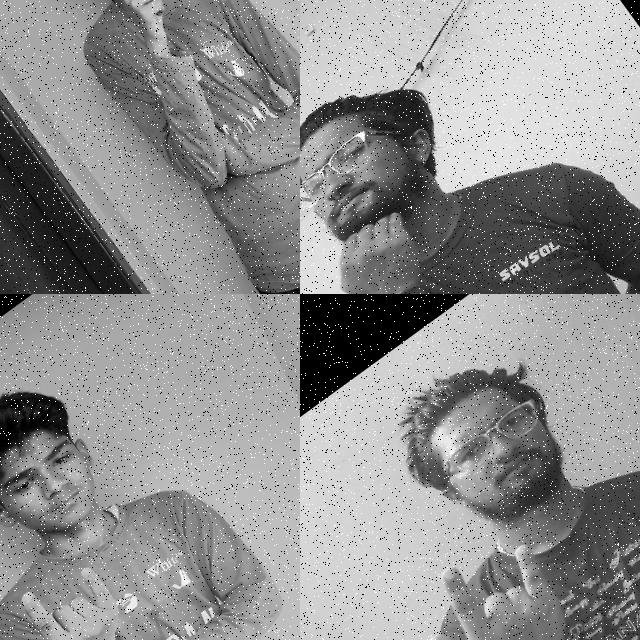Chin Flick: (300, 55, 502, 294)
Corna: (385, 509, 608, 640), (0, 531, 163, 640)
Fist Mouth: (0, 0, 229, 93)
